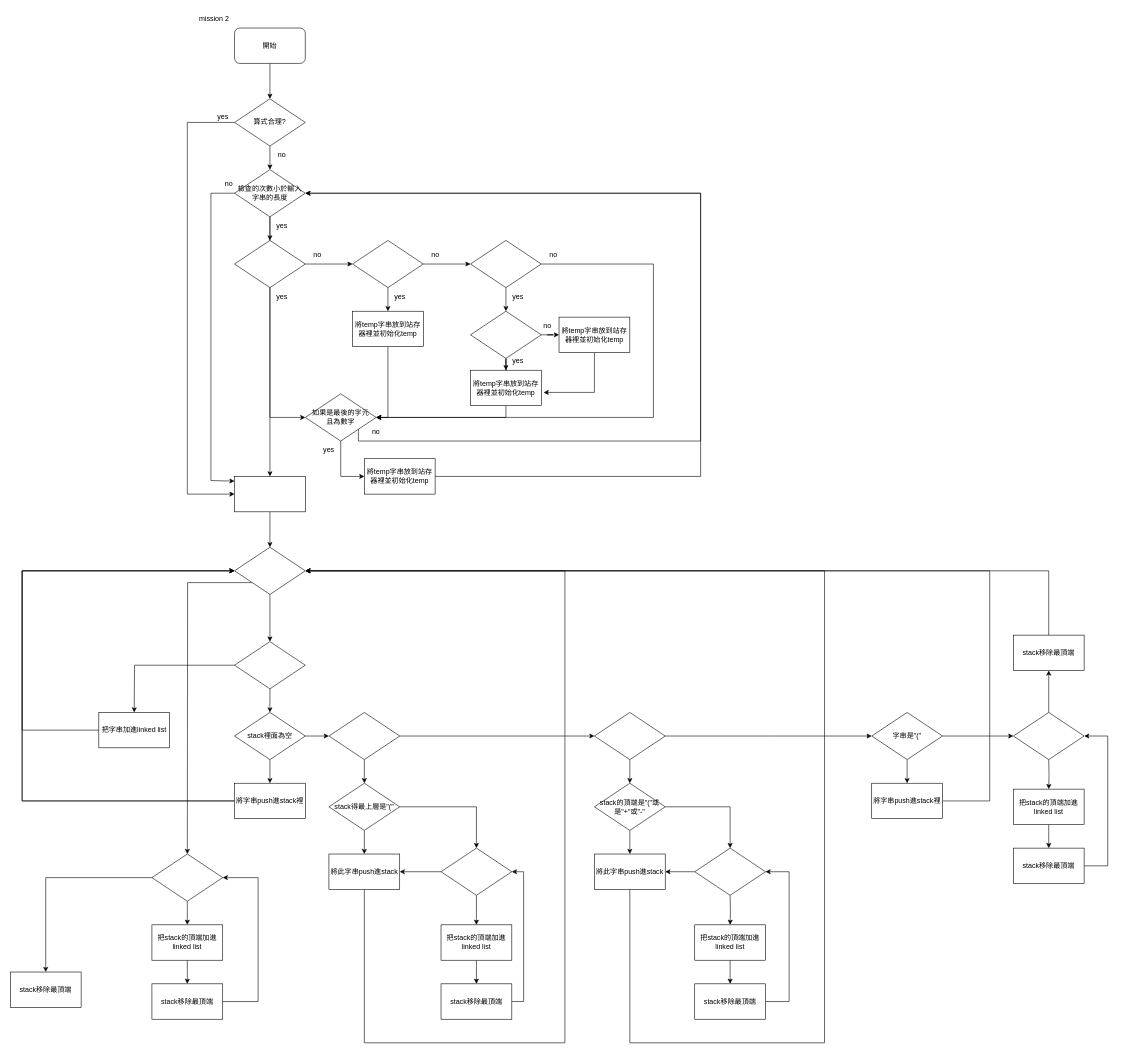
This 1123x1058 diagram has some shape labels left out. The centre of each missing label's shape, as x and y in pixels:
stack不為空和stack.top不是"(": pixel 476 871
stack不為空和stack的頂端為"*"或"/": pixel 730 871
stack的頂端不是"(": pixel 1048 736
stack裡面不為為空: pixel 187 877
temp字串非空白?: pixel 505 334
初始化temp: pixel 269 494
如果檢查的字元是數字?: pixel 387 264
如果檢查的字元是空白或tab?: pixel 269 264
如果檢查的字元是運算元?: pixel 505 264
字串是"*"或是"/": pixel 629 736
字串是"+"或是"-": pixel 364 736
此字串是運算子?: pixel 269 665
測試的次數小於有效字串的數量: pixel 269 570
